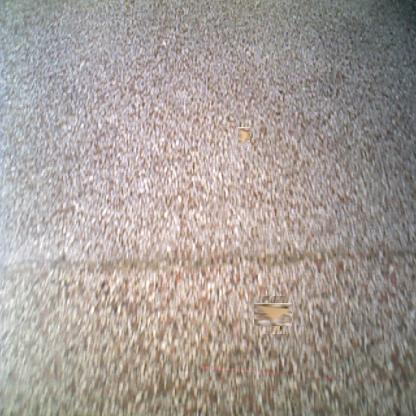dirty: (258, 300, 289, 330), (237, 129, 252, 145)
